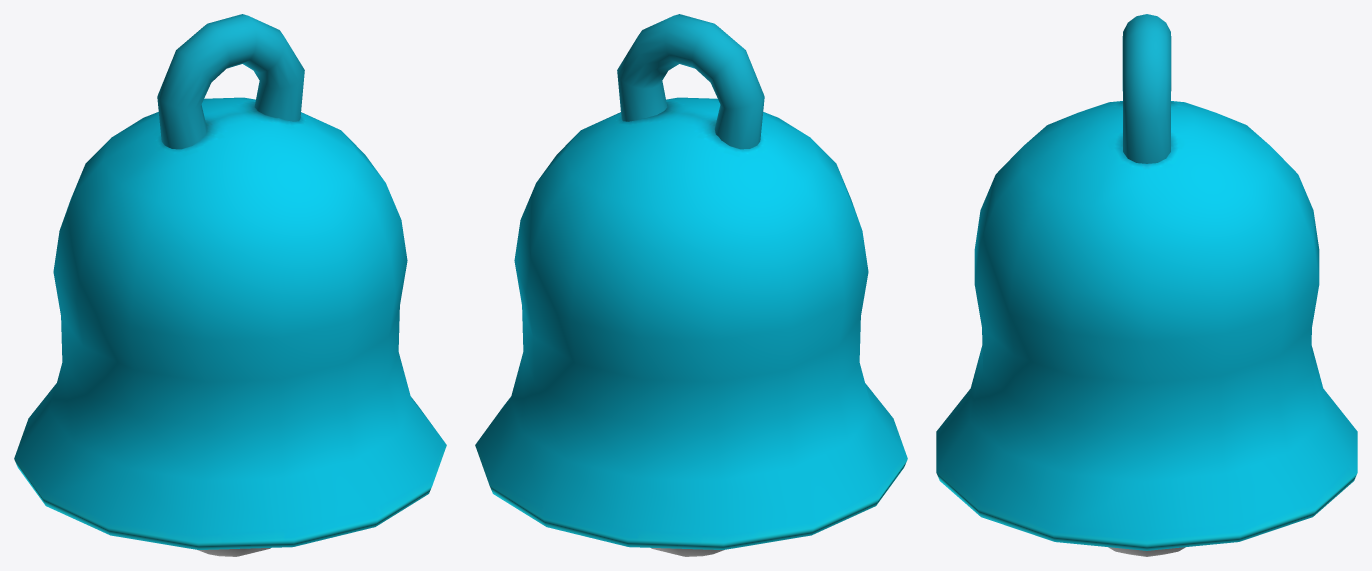
The model's file is 0-bell_blue.fbx.
The picture shows the model from 3 angles, left to right: view 1: azimuth 30°, elevation 25°; view 2: azimuth 150°, elevation 25°; view 3: azimuth 270°, elevation 25°; orthographic projection.
Visible parts, largest first — view 1: 0-bell_blue; view 2: 0-bell_blue; view 3: 0-bell_blue.
Boxes of the visible parts, box(x1,y1,x2,y2) form: 0-bell_blue: box(14, 14, 446, 556); 0-bell_blue: box(475, 14, 907, 556); 0-bell_blue: box(936, 14, 1357, 556).
Size of the model in its own units: 72.07 by 96.98 by 70.26.
